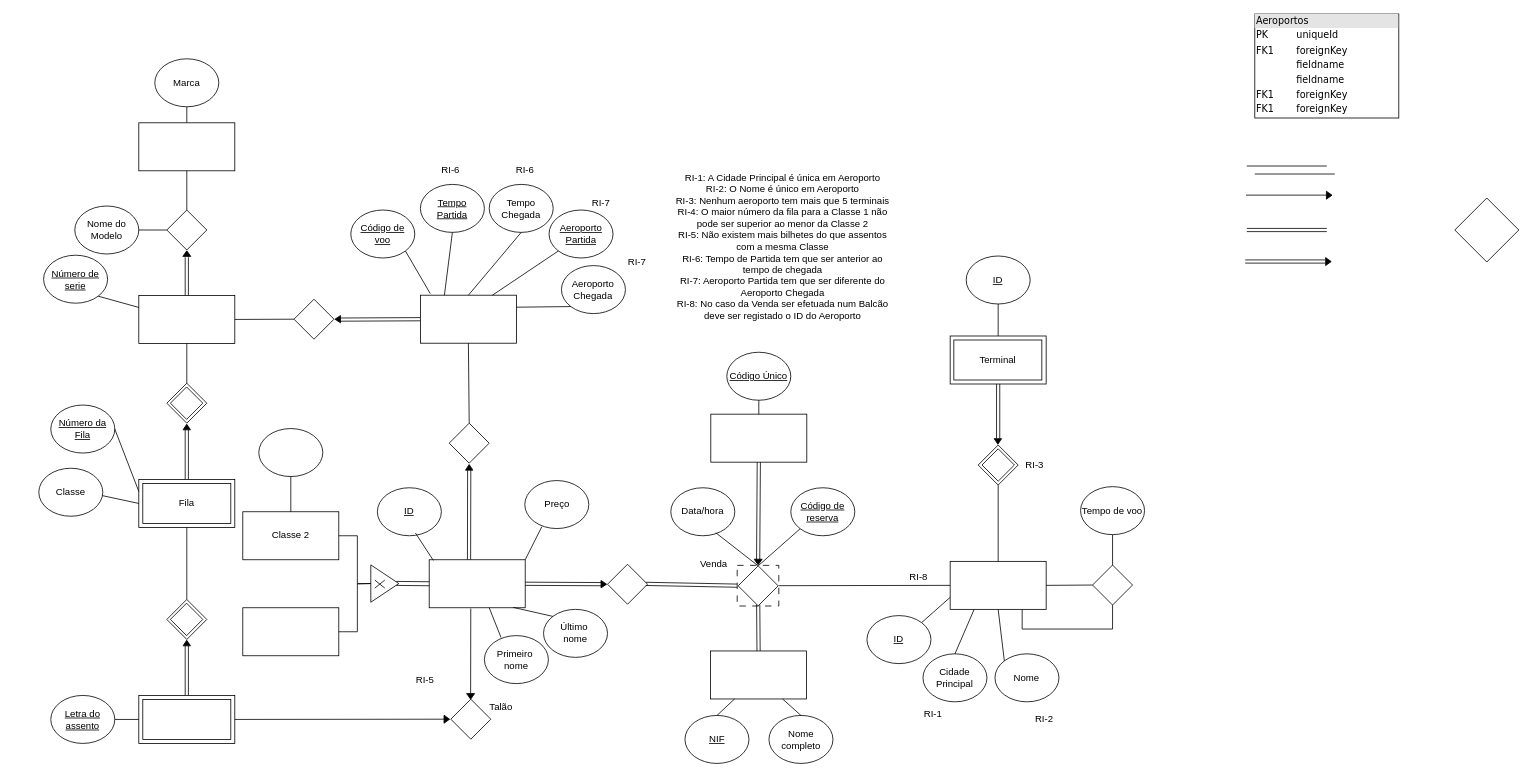
Image size: 1534x778. Some labels were removed from this diagram. The centre of each missing label's shape, as x and y in pixels:
Aeroporto: (x=997, y=585)
Assento: (x=186, y=719)
Avião: (x=186, y=319)
Bagagem?: (x=290, y=452)
Bilhete: (x=476, y=583)
Classe 1: (x=290, y=631)
Comprador: (x=758, y=674)
Fatura: (x=758, y=437)
Modelo: (x=186, y=146)
Voo: (x=468, y=318)
